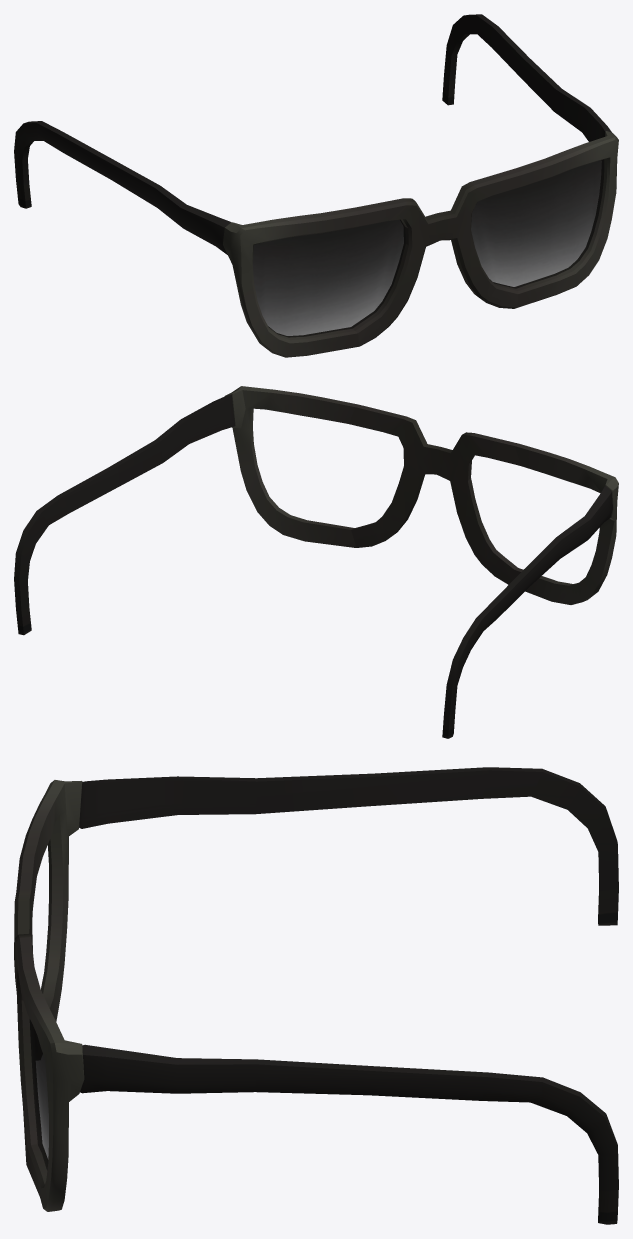
3 renders of one model, top to bottom at view 1: azimuth 30°, elevation 25°; view 2: azimuth 150°, elevation 25°; view 3: azimuth 270°, elevation 25°, orthographic. The views are drawn at different scales.
Parts seen in each view (by area): view 1: Wolf3D_Glasses; view 2: Wolf3D_Glasses; view 3: Wolf3D_Glasses.
Part boxes in pixels (x1,y1,x2,y2): Wolf3D_Glasses: (14,14,618,357); Wolf3D_Glasses: (14,386,618,738); Wolf3D_Glasses: (14,767,618,1224).
Size of the model in its own units: 0.1663 by 0.0503 by 0.1354.
1 material, 1 textured.
